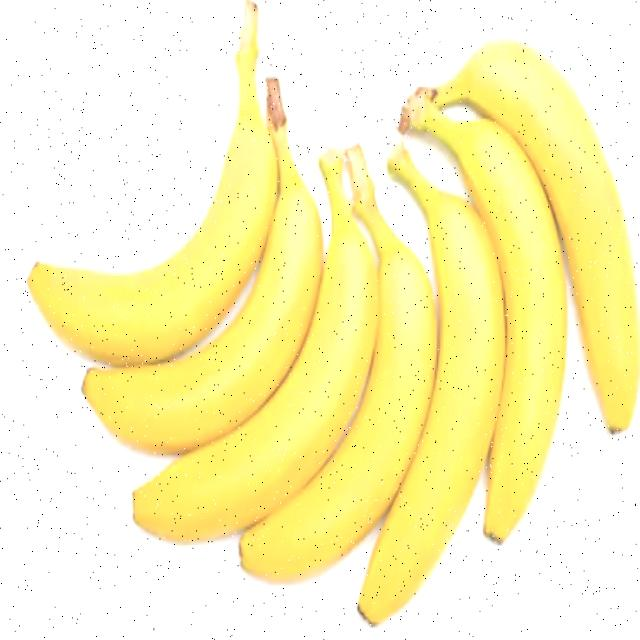god quality banana: (27, 1, 640, 623)
